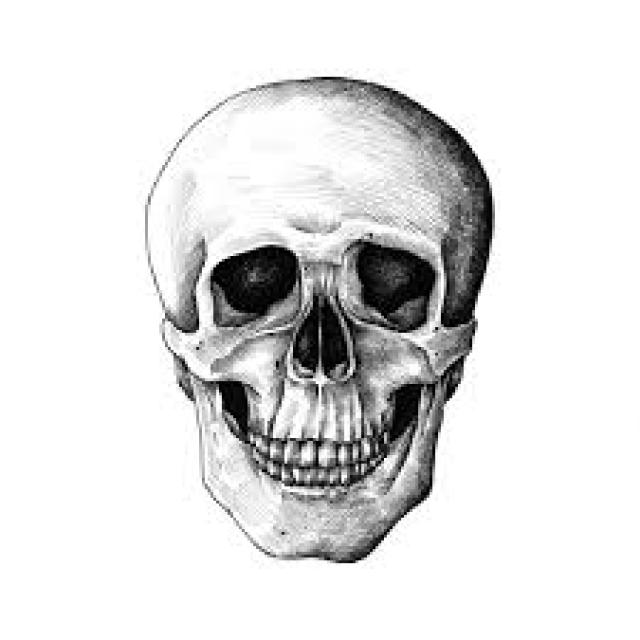skull: (131, 67, 510, 578)
